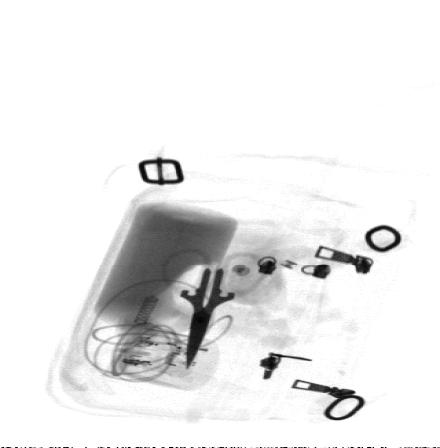Scissors: (158, 246, 274, 372)
